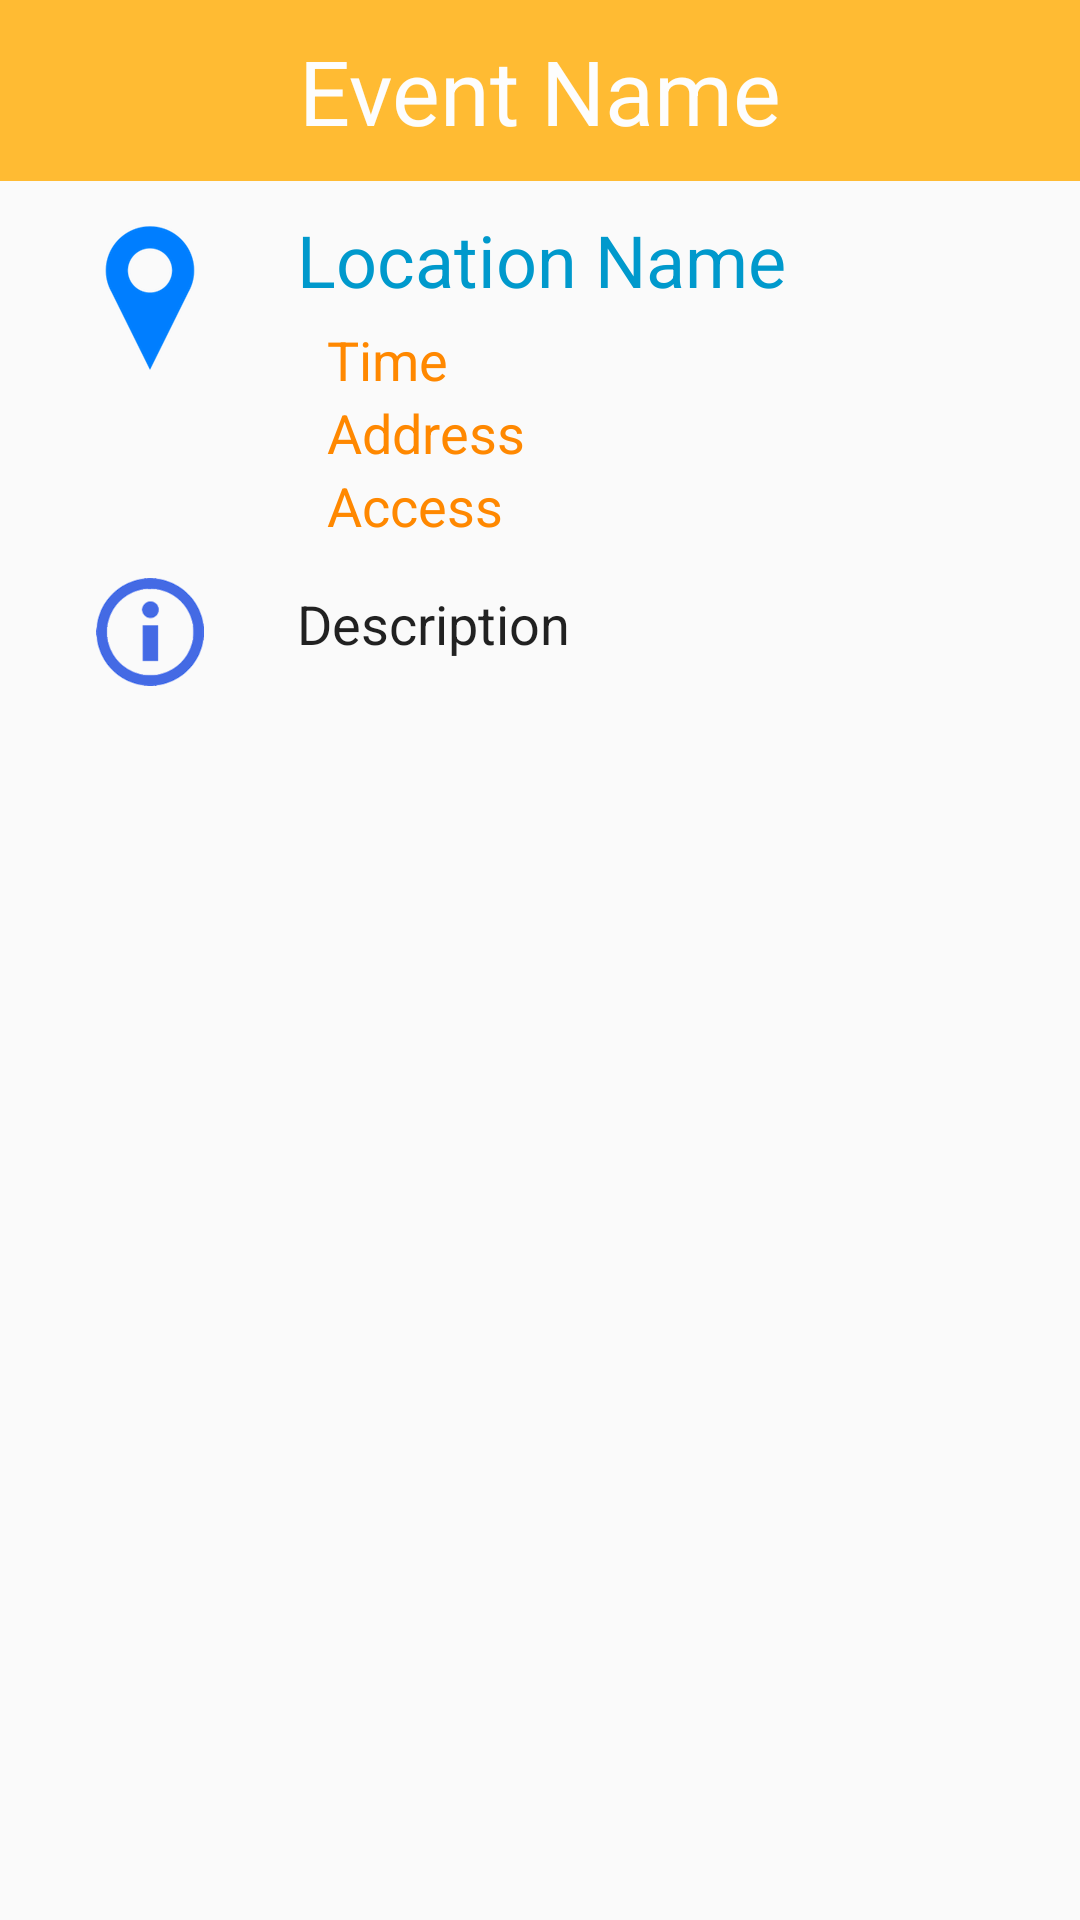

Screen size 1080x1920. Icon name, then its box in pixels as (x1, y1, x2, y2):
info: (96, 578, 204, 686)
